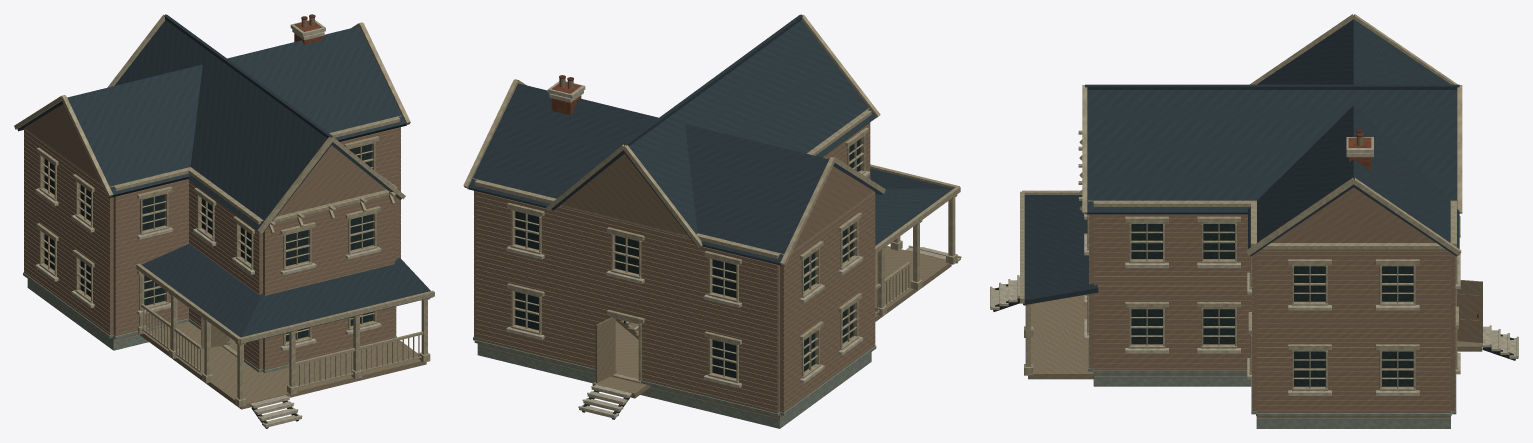
3 views of the same model, side by side, from view 1: azimuth 30°, elevation 25°; view 2: azimuth 150°, elevation 25°; view 3: azimuth 270°, elevation 25° (orthographic). The views are drawn at different scales.
Visible parts, largest first — view 1: A009-02_11_Roof_Main, A009-02_02_Clapboard, A009-02_11_Roof_Porch, A009-02_01_Wall_Shell, A009-02_07_Floors, A009-02_04_Architectural_Trim, A009-02_03_Window_Door_Frames, A009-02_12_Roof_Edges, A009-02_06_Glazing, A009-02_10_Porch_Supports, A009-02_09_Railings, A009-02_00_Foundation (+3 smaller); view 2: A009-02_02_Clapboard, A009-02_11_Roof_Main, A009-02_01_Wall_Shell, A009-02_04_Architectural_Trim, A009-02_03_Window_Door_Frames, A009-02_12_Roof_Edges, A009-02_06_Glazing, A009-02_07_Floors, A009-02_00_Foundation, A009-02_11_Roof_Porch, A009-02_10_Porch_Supports, A009-02_08_Stairs (+3 smaller); view 3: A009-02_11_Roof_Main, A009-02_02_Clapboard, A009-02_04_Architectural_Trim, A009-02_01_Wall_Shell, A009-02_06_Glazing, A009-02_11_Roof_Porch, A009-02_03_Window_Door_Frames, A009-02_07_Floors, A009-02_12_Roof_Edges, A009-02_00_Foundation, A009-02_05_Door_Leaf_00, A009-02_08_Stairs (+2 smaller).
Boxes of the visible parts, x1,y1,x2,y2 form: A009-02_11_Roof_Main: [17, 15, 406, 233]; A009-02_02_Clapboard: [24, 127, 400, 370]; A009-02_11_Roof_Porch: [141, 244, 432, 344]; A009-02_01_Wall_Shell: [25, 104, 400, 369]; A009-02_07_Floors: [110, 321, 426, 409]; A009-02_04_Architectural_Trim: [23, 115, 401, 372]; A009-02_03_Window_Door_Frames: [39, 141, 376, 357]; A009-02_12_Roof_Edges: [14, 14, 434, 343]; A009-02_06_Glazing: [44, 144, 372, 341]; A009-02_10_Porch_Supports: [138, 274, 430, 407]; A009-02_09_Railings: [141, 304, 423, 387]; A009-02_00_Foundation: [27, 279, 148, 350]; A009-02_02_Clapboard: [474, 122, 875, 413]; A009-02_11_Roof_Main: [467, 15, 882, 266]; A009-02_01_Wall_Shell: [474, 138, 874, 412]; A009-02_04_Architectural_Trim: [473, 108, 876, 416]; A009-02_03_Window_Door_Frames: [511, 135, 865, 383]; A009-02_12_Roof_Edges: [463, 14, 960, 265]; A009-02_06_Glazing: [515, 139, 860, 378]; A009-02_07_Floors: [477, 246, 951, 418]; A009-02_00_Foundation: [477, 345, 871, 428]; A009-02_11_Roof_Porch: [870, 168, 953, 245]; A009-02_10_Porch_Supports: [875, 195, 957, 316]; A009-02_08_Stairs: [578, 245, 961, 418]; A009-02_11_Roof_Main: [1085, 19, 1459, 256]; A009-02_02_Clapboard: [1089, 214, 1455, 412]; A009-02_04_Architectural_Trim: [1078, 130, 1460, 416]; A009-02_01_Wall_Shell: [1090, 187, 1454, 412]; A009-02_06_Glazing: [1131, 224, 1413, 386]; A009-02_11_Roof_Porch: [1023, 195, 1098, 305]; A009-02_03_Window_Door_Frames: [1087, 214, 1457, 390]; A009-02_07_Floors: [1028, 295, 1482, 418]; A009-02_12_Roof_Edges: [1020, 14, 1462, 303]; A009-02_00_Foundation: [1093, 376, 1450, 428]; A009-02_05_Door_Leaf_00: [1457, 280, 1482, 342]; A009-02_08_Stairs: [990, 275, 1518, 358].
Bounding box in the file's own units: 12.52 × 9.67 × 16.88.
Materials: 11 (11 with a texture image).
